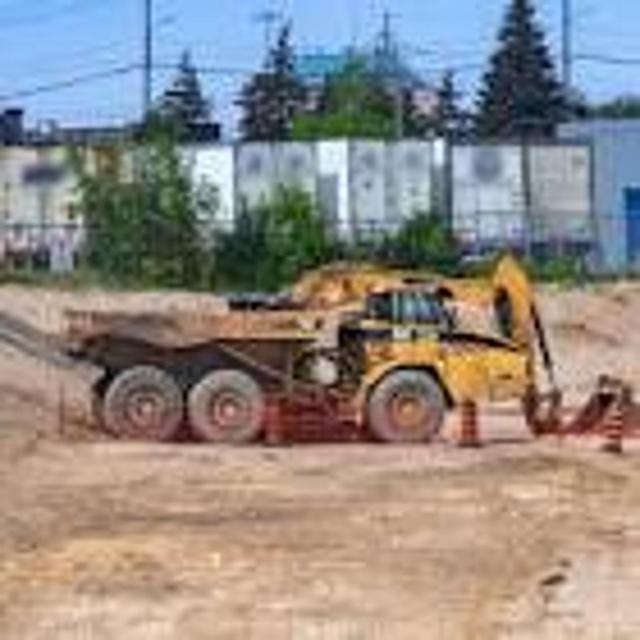dump_truck: (76, 225, 534, 493)
